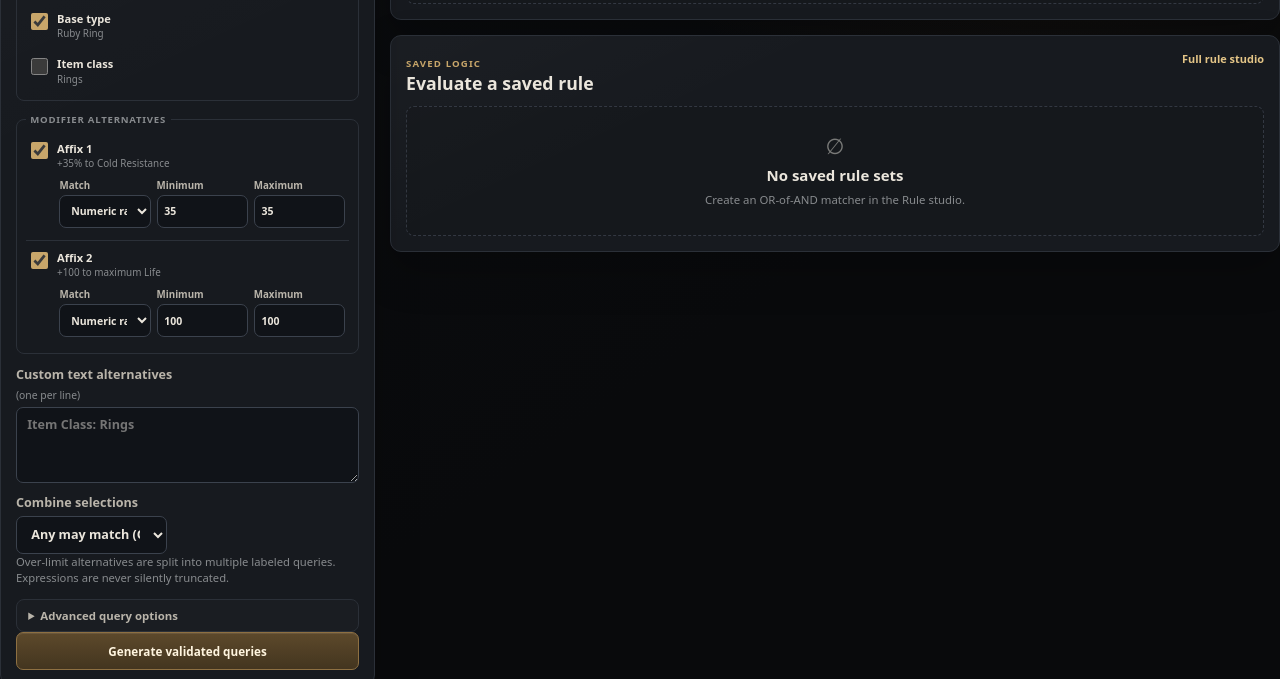
Test: item intelligence renderer › generates finder queries using clone-safe plain selections
(page scrolled)
Click the button "Generate validated queries": point(188, 651) [16,632,359,670]
(page scrolled)
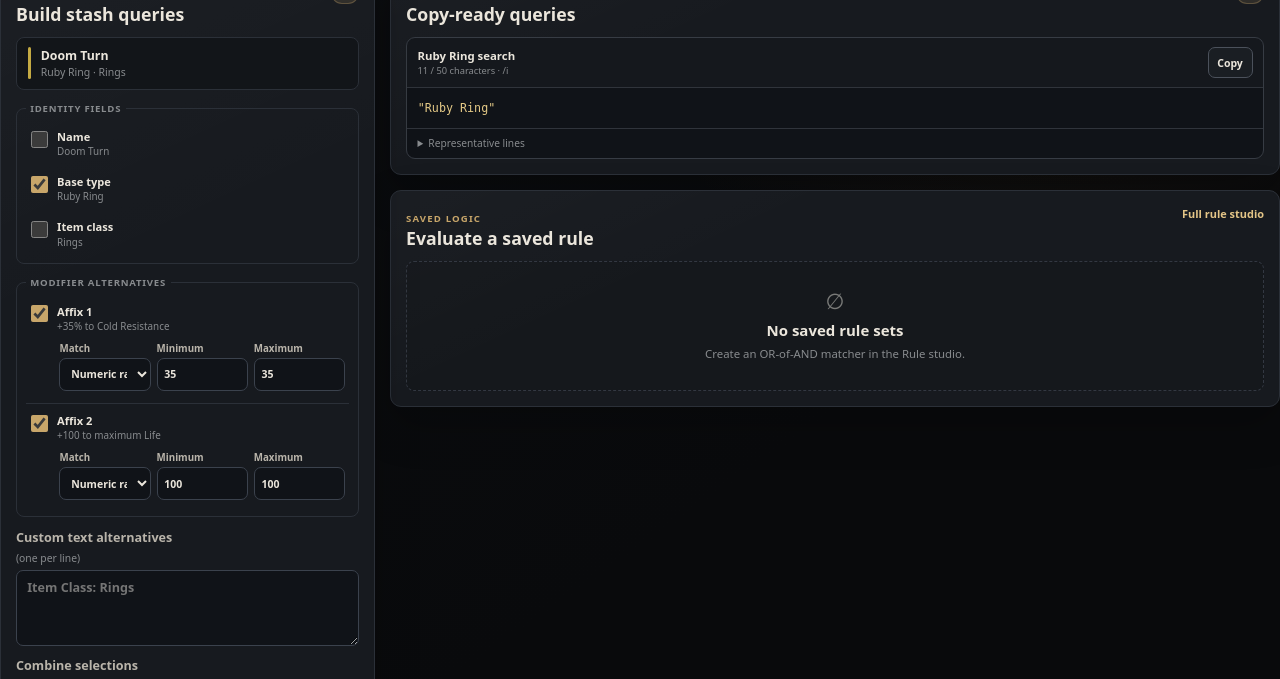
Expected: the text "\"Ruby Ring\"" is shown, [418,101,495,115]
